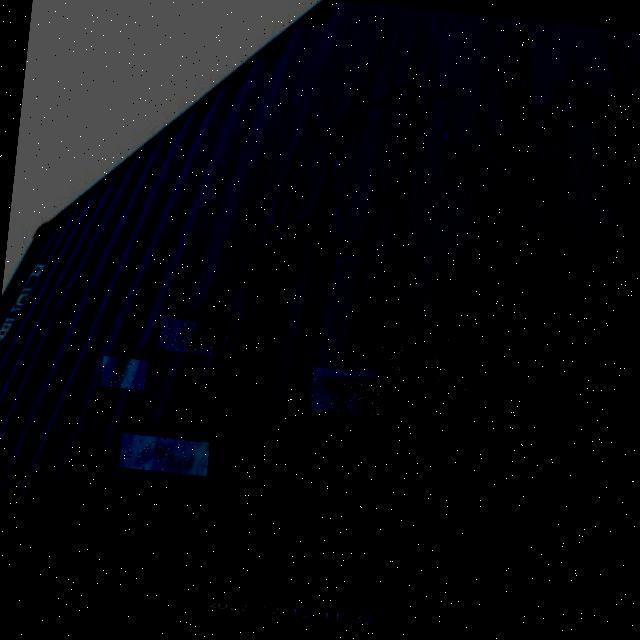Minor-Dent: (376, 327, 495, 393), (119, 434, 210, 479), (158, 318, 214, 355), (100, 355, 147, 390)
Rust: (309, 367, 383, 416)
